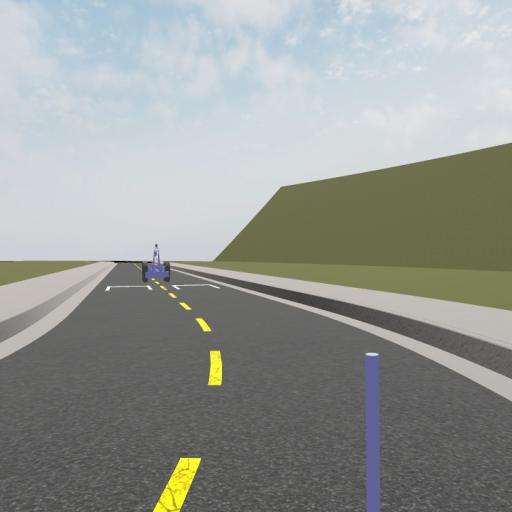ERP-42: (142, 242, 171, 285)
